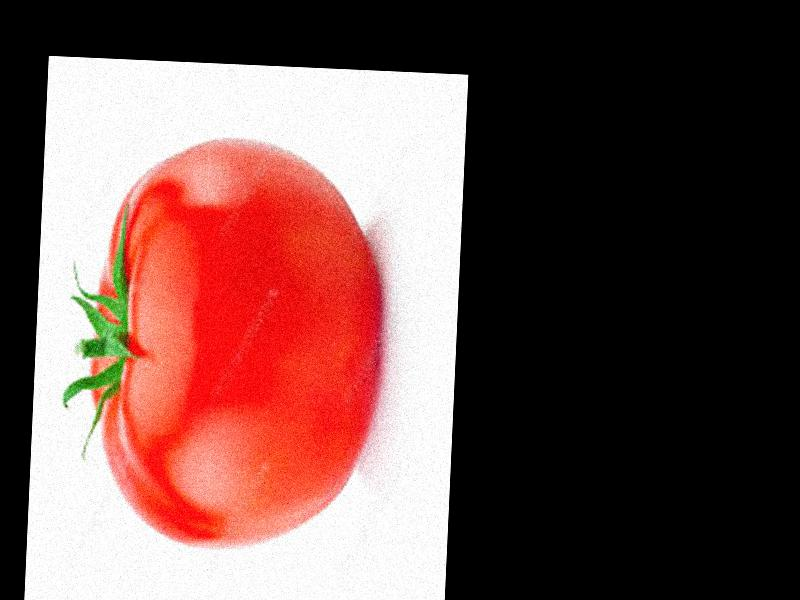Tomato: (83, 132, 380, 554)
